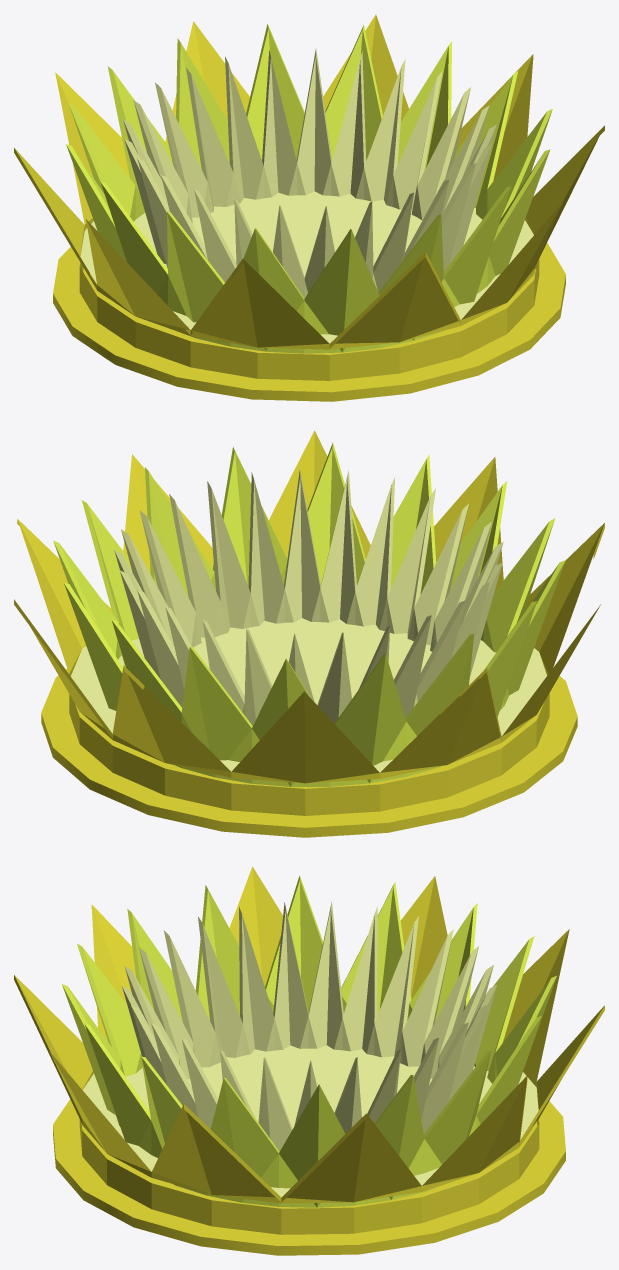
Rendered from portal_abrir_000019.obj.
3 views of the same model, one above another, from view 1: azimuth 30°, elevation 25°; view 2: azimuth 150°, elevation 25°; view 3: azimuth 270°, elevation 25° (orthographic). The views are drawn at different scales.
Parts seen in each view (by area): view 1: pCylinder1, Cylinder.001, Cylinder; view 2: pCylinder1, Cylinder.001, Cylinder; view 3: pCylinder1, Cylinder.001, Cylinder.
Boxes of the visible parts, x1,y1,x2,y2 form: pCylinder1: (14,14,604,401); Cylinder.001: (123,48,496,298); Cylinder: (66,24,552,353); pCylinder1: (14,430,604,837); Cylinder.001: (114,469,503,725); Cylinder: (53,442,565,786); pCylinder1: (14,866,604,1255); Cylinder.001: (122,901,496,1151); Cylinder: (62,875,556,1207).
Size of the model in its own units: 3.59 by 1.14 by 3.63.
Materials: 4 (4 with a texture image).
